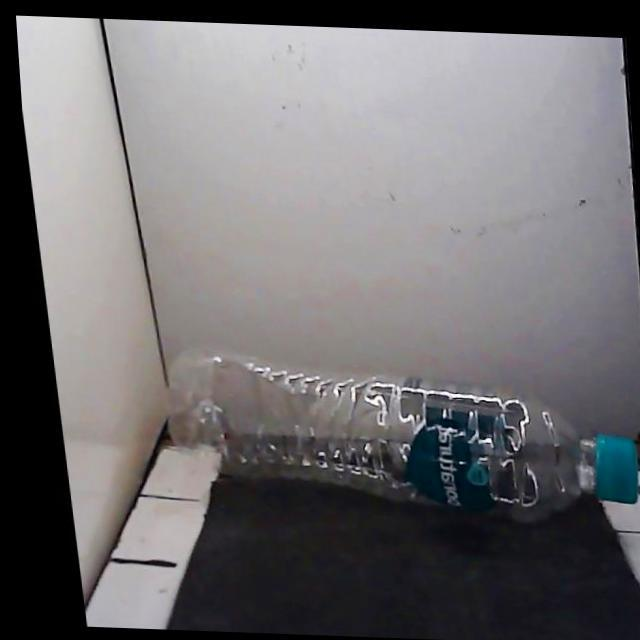plastico: (170, 352, 639, 521)
